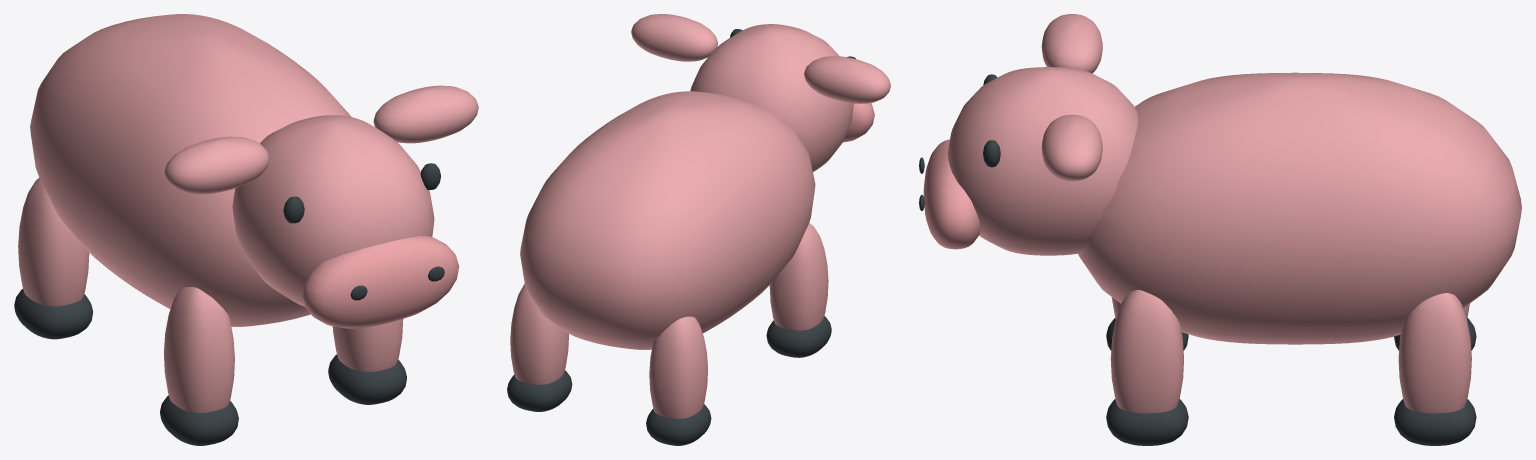
The model's file is farm_piglet.glb.
3 renders of one model, left to right at view 1: azimuth 30°, elevation 25°; view 2: azimuth 150°, elevation 25°; view 3: azimuth 270°, elevation 25°, orthographic. The views are drawn at different scales.
Visible parts, largest first — view 1: farm_piglet_crafted_mesh; view 2: farm_piglet_crafted_mesh; view 3: farm_piglet_crafted_mesh.
Part boxes in pixels (x1,y1,x2,y2): farm_piglet_crafted_mesh: [14, 14, 478, 445]; farm_piglet_crafted_mesh: [507, 14, 890, 445]; farm_piglet_crafted_mesh: [919, 14, 1521, 445].
Size of the model in its own units: 1.35 by 1.4 by 2.33.
